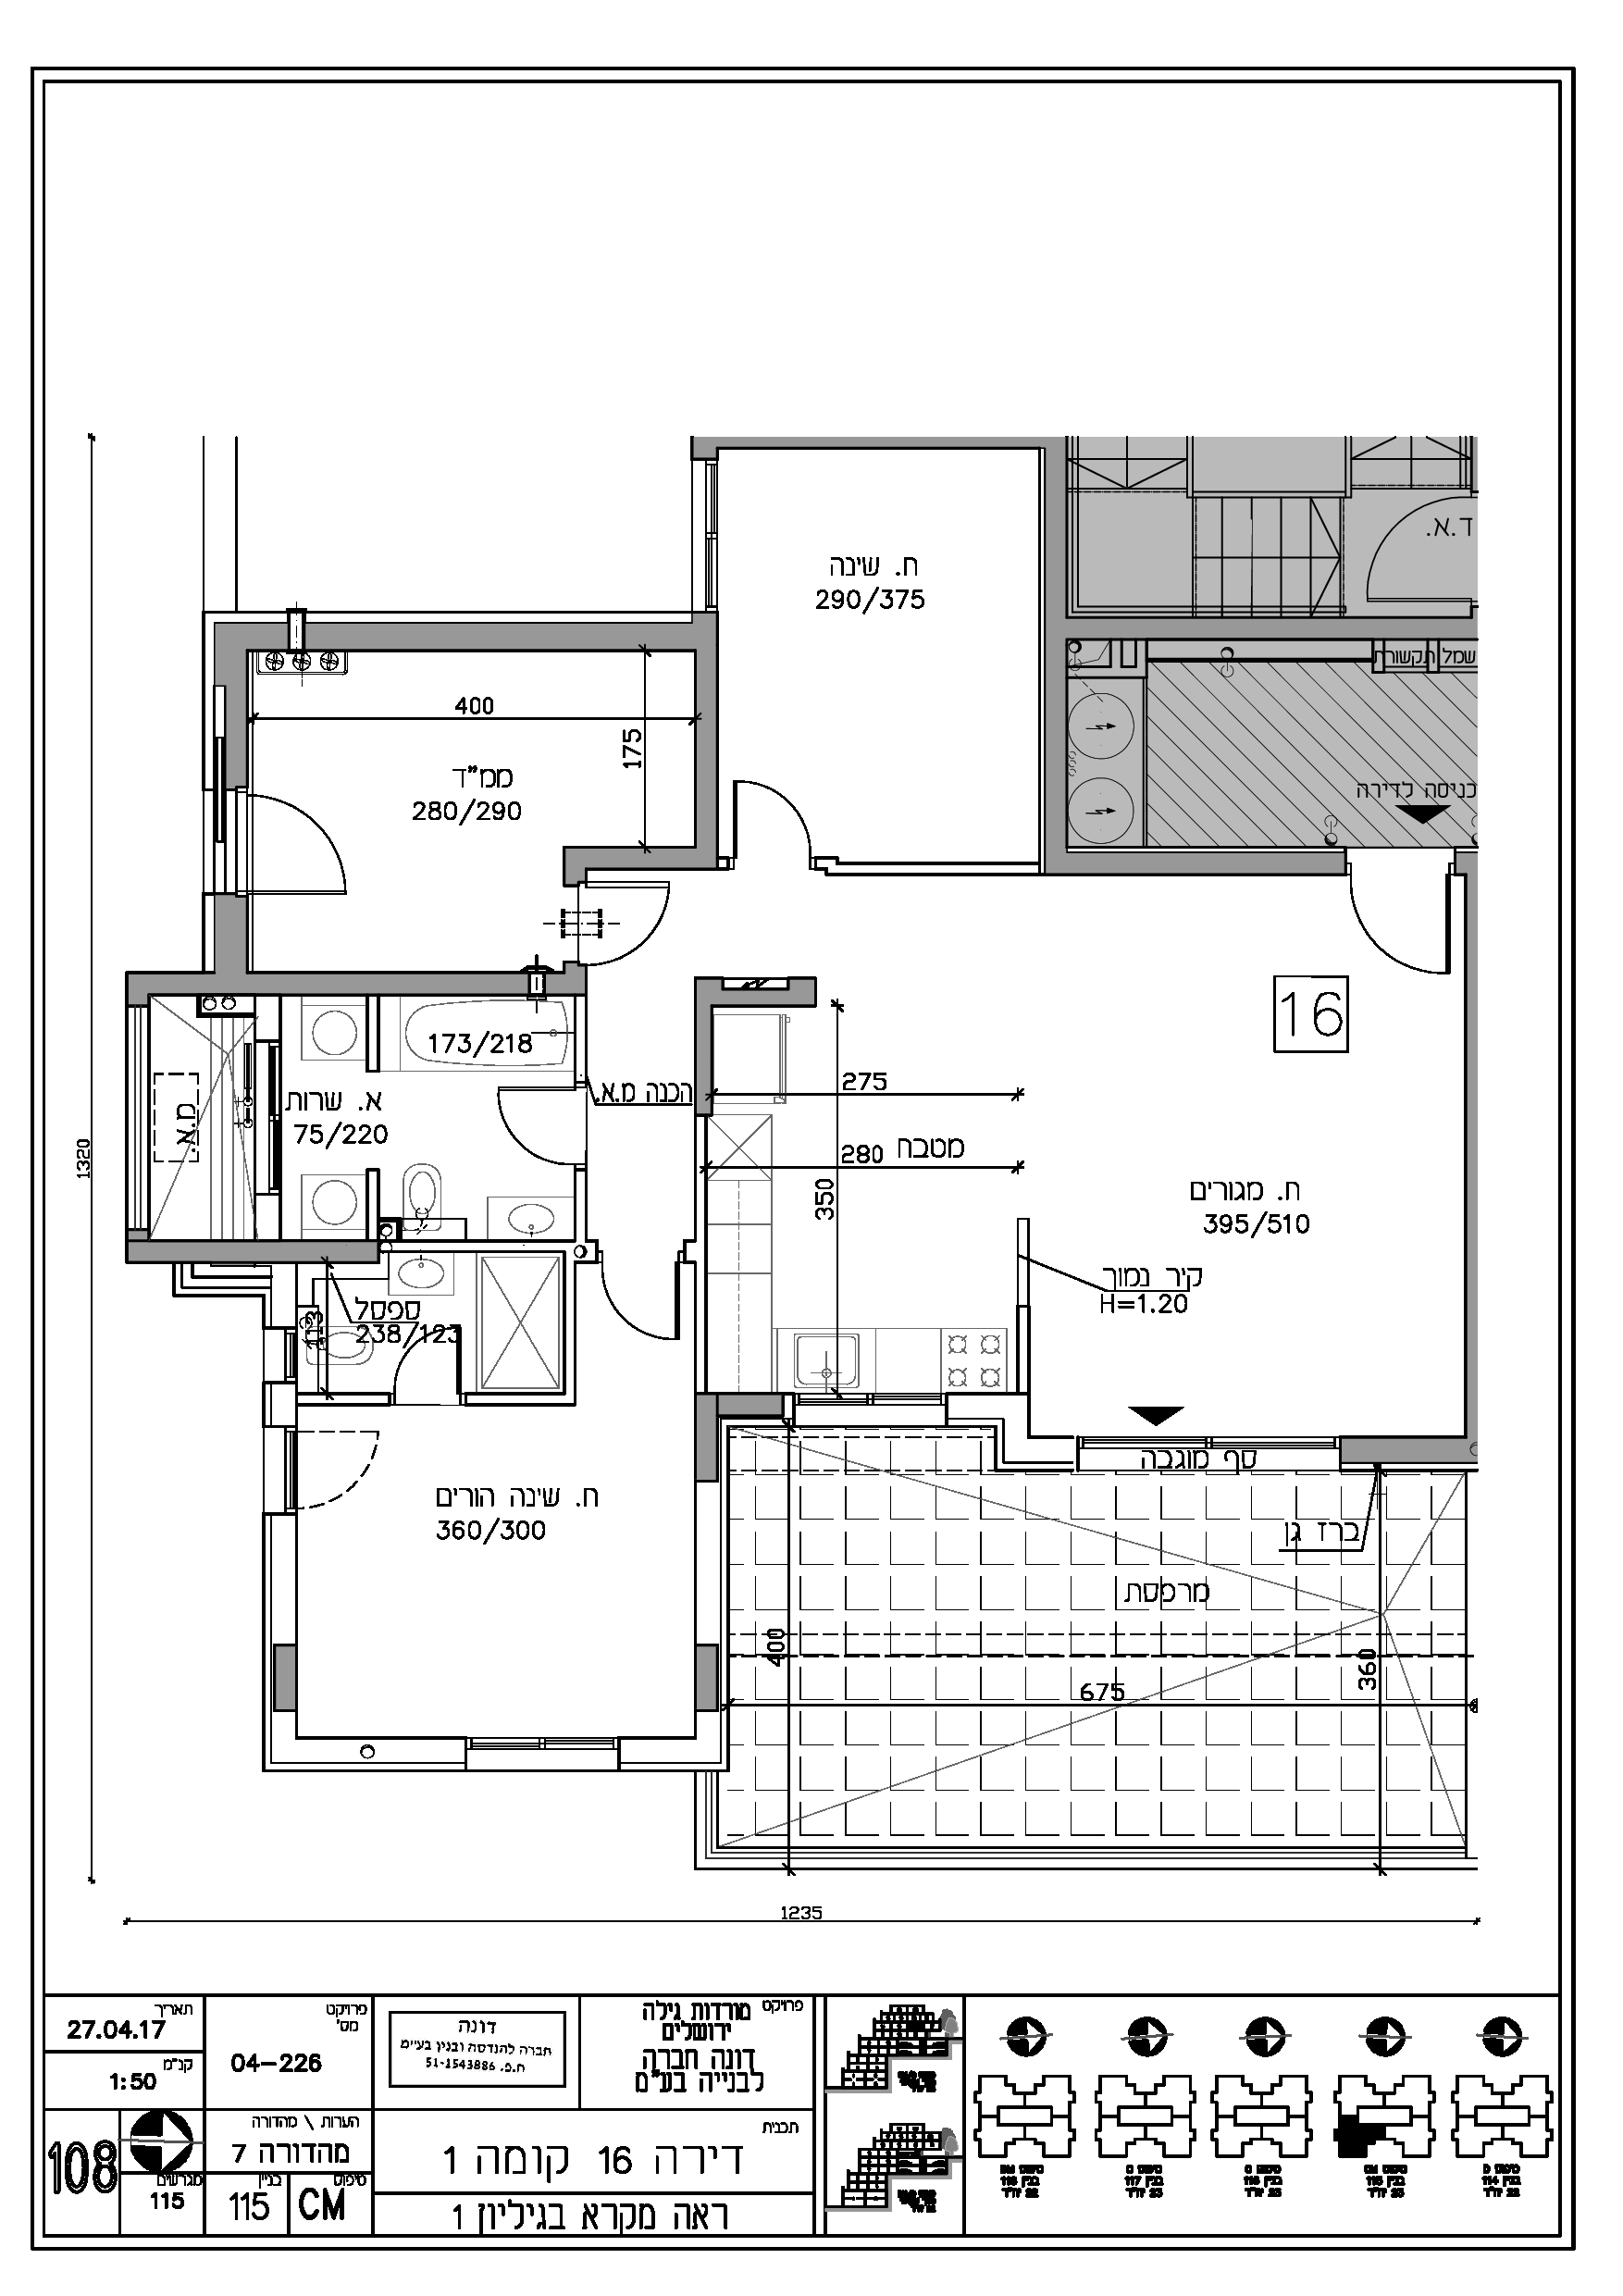door: (260, 787, 369, 910), (1356, 884, 1456, 989), (309, 1419, 393, 1537), (590, 1274, 689, 1363), (492, 1077, 574, 1179), (611, 877, 694, 961), (1360, 509, 1426, 611), (724, 776, 817, 845)
wall: (320, 625, 715, 650), (137, 977, 522, 993), (1049, 443, 1063, 870), (697, 622, 715, 850), (1057, 856, 1331, 870), (221, 908, 241, 980)
window: (1073, 1425, 1344, 1477), (464, 1722, 624, 1794), (680, 457, 747, 613), (796, 1386, 949, 1435), (248, 1038, 286, 1195)
